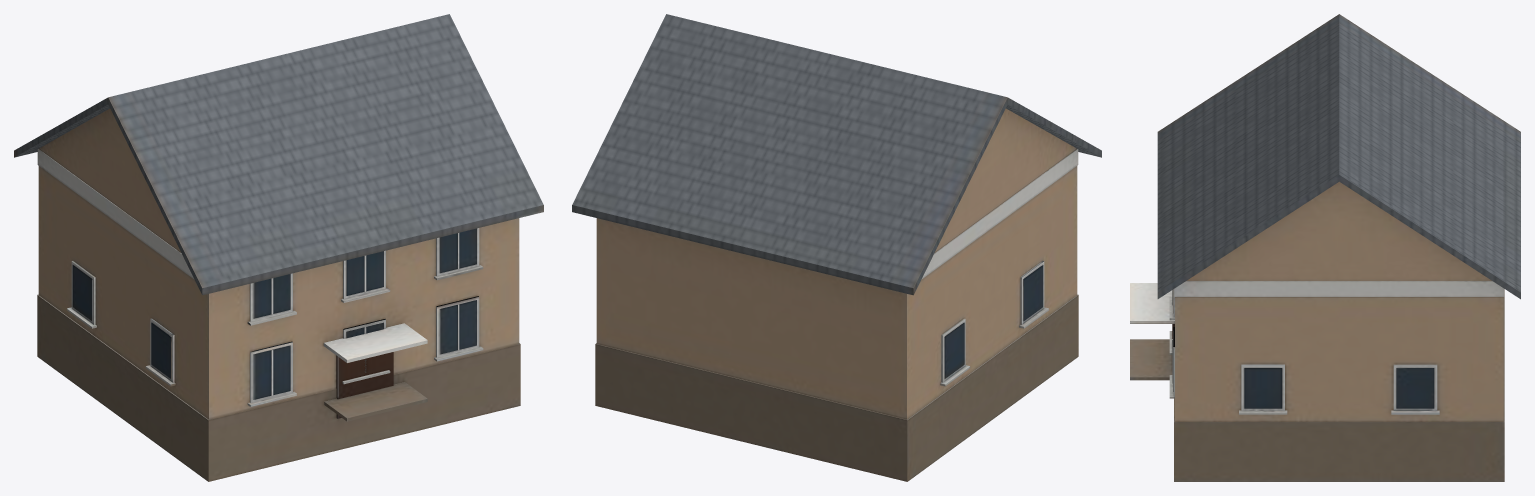
Rendered from dom_stary.glb.
3 views of the same model, side by side, from view 1: azimuth 30°, elevation 25°; view 2: azimuth 150°, elevation 25°; view 3: azimuth 270°, elevation 25° (orthographic). The views are drawn at different scales.
Visible parts, largest first — view 1: dom_stary; view 2: dom_stary; view 3: dom_stary.
Part boxes in pixels (box(x1,y1,x2,y2)): dom_stary: box(14, 14, 543, 481); dom_stary: box(572, 14, 1101, 481); dom_stary: box(1130, 14, 1520, 481).
Size of the model in its own units: 11 by 10.02 by 11.3.
Materials: 1 (1 with a texture image).
